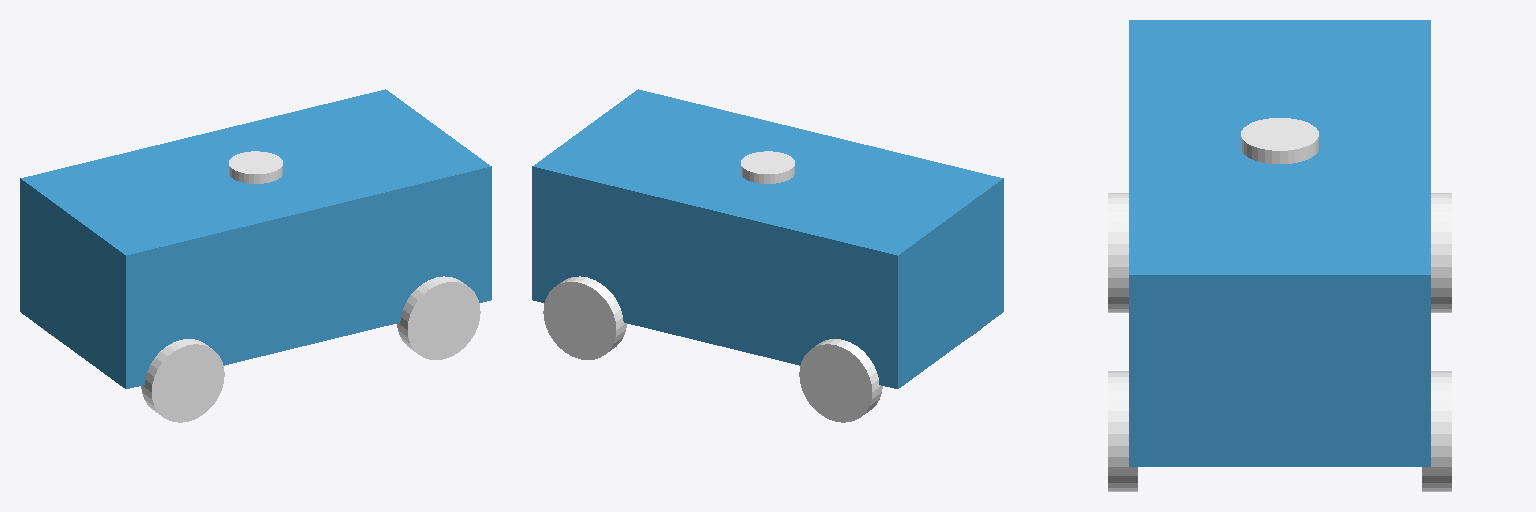
URDF robot description (my_robot):
<?xml version="1.0"?>

<robot name="my_robot" xmlns:xacro="http://www.ros.org/wiki/xacro">
    <material name="grey">
        <color rgba="0.7 0.7 0.7 1"/>
    </material>

    <material name="green">
        <color rgba="0 0.6 0 1"/>
    </material>

    <material name="white">
        <color rgba="1 1 1 1"/>
    </material>

    <link name="base_footprint" />

    <joint name="base_joint" type="fixed">
        <parent link="base_footprint" />
        <child link="base_link" />
        <origin xyz="0 0 0.5" rpy="0 0 0" />
    </joint>

    
    <link name='base_link'>
        <inertial> 
          <mass value="1.14"/> 
          <origin xyz="0 0 0.05" rpy="0 0 0"/> 
          <inertia ixx="0.13" ixy="0" ixz="0" iyy="0.4" iyz="0" izz="0.48"/> 
        </inertial> 

        <visual> 
          <origin xyz="0 0 0.05" rpy="0 0 0"/> 
          <geometry> 
            <box size="2 1 0.7"/> 
          </geometry> 
          <material name="green" />
          <material>
            <ambient>0.5 0.5 1.0 1</ambient>
            <diffuse>0.5 0.5 1.0 1</diffuse>
            <specular>0.0 0.0 1.0 1</specular>
          </material>
        </visual>

        <collision> 
          <origin xyz="0 0 0.05" rpy="0 0 0"/> 
          <geometry> 
                <box size="2 1 0.7"/> 
          </geometry> 
        </collision> 
    </link>

    <link name="right_wheel_rear"> 
      <collision> 
        <origin xyz="0 0 0" rpy="0 1.5708 1.5708" />
        <geometry> 
        <cylinder length="0.1" radius="0.2"/> 
        </geometry> 
      </collision> 

      <visual> 
        <origin xyz="0 0 0" rpy="0 1.5708 1.5708" /> 
        <geometry> 
        <cylinder length="0.1" radius="0.2"/> 
        </geometry> 
        <material name="white"/> 
      </visual> 		

      <inertial> 
        <origin xyz="0 0 0" rpy="0 1.5708 1.5708" /> 
        <mass value="0.2"/> 
        <inertia ixx="0.15" ixy="0" ixz="0" iyy="0.15" iyz="0" izz="0.125"/> 
      </inertial> 
    </link>

    <joint name="base_right_wheel_rear_joint" type="continuous"> 
      <parent link="base_link"/> 
      <child link="right_wheel_rear"/> 
      <origin xyz="-0.7 0.52 -0.31" rpy="0 0 0" />  
      <axis xyz="0 1 0" rpy="0 0 0" /> 
      <limit effort="0" velocity="0"/> 
      <dynamics damping="0.0" friction="0.0"/> 
    </joint>

    <link name="left_wheel_rear">
      <collision>
        <origin xyz="0 0 0" rpy="0 1.5708 1.5708" />
        <geometry>
          <cylinder length="0.1" radius="0.2"/>
        </geometry>
      </collision>

      <visual>
        <origin xyz="0 0 0" rpy="0 1.5708 1.5708" />
        <geometry>
          <cylinder length="0.1" radius="0.2"/>
        </geometry>
        <material name="white"/>
      </visual>

      <inertial>
        <origin xyz="0 0 0" rpy="0 1.5708 1.5708" />
        <mass value="0.2"/>
        <inertia ixx="0.15" ixy="0" ixz="0" iyy="0.15" iyz="0" izz="0.125"/>
      </inertial>

    </link>

    <joint name="base_left_wheel_rear_joint" type="continuous">
      <parent link="base_link"/>
      <child link="left_wheel_rear"/>
      <origin xyz="-0.7 -0.52 -0.31" rpy="0 0 0" />
      <axis xyz="0 1 0" rpy="0 0 0" />
      <limit effort="0" velocity="0"/>
      <dynamics damping="0.0" friction="0.0"/>
    </joint>
  
    <link name="right_wheel_front">
      <collision>
        <origin xyz="0 0 0" rpy="0 1.5708 1.5708" />
        <geometry>
          <cylinder length="0.1" radius="0.2"/>
        </geometry>
      </collision>

      <visual>
        <origin xyz="0 0 0" rpy="0 1.5708 1.5708" />
        <geometry>
          <cylinder length="0.1" radius="0.2"/>
        </geometry>
        <material name="white"/>
      </visual>

      <inertial>
        <origin xyz="0 0 0" rpy="0 1.5708 1.5708" />
        <mass value="0.2"/>
        <inertia ixx="0.15" ixy="0" ixz="0" iyy="0.15" iyz="0" izz="0.125"/>
      </inertial>
    </link>

    <link name="left_wheel_front">
      <collision>
        <origin xyz="0 0 0" rpy="0 1.5708 1.5708" />
        <geometry>
          <cylinder length="0.1" radius="0.2"/>
        </geometry>
      </collision>

      <visual>
        <origin xyz="0 0 0" rpy="0 1.5708 1.5708" />
        <geometry>
          <cylinder length="0.1" radius="0.2"/>
        </geometry>
        <material name="white"/>
      </visual>

      <inertial>
        <origin xyz="0 0 0" rpy="0 1.5708 1.5708" />
        <mass value="0.2"/>
        <inertia ixx="0.15" ixy="0" ixz="0" iyy="0.15" iyz="0" izz="0.125"/>
      </inertial>
    </link>

    <link name="lidar_link">
      <collision>
        <origin xyz="0 0 0" rpy="0 0 0"/>
        <geometry>
          <cylinder radius="0.13" length="0.1"/>
        </geometry>
      </collision>

      <visual>
        <origin xyz="0 0 0" rpy="0 0 0"/>
        <geometry>
          <cylinder radius="0.13" length="0.1"/>
        </geometry>
        <material name="white"/>
      </visual>

      <inertial>
        <origin xyz="0 0 0" rpy="0 0 0"/>
        <mass value="0.1"/>
        <inertia ixx="0.0001" ixy="0" ixz="0" iyy="0.0001" iyz="0" izz="0.0001"/>
      </inertial>

        <sensor name="lidar" type="gpu_ray">
          <pose>0 0 0 0 0 0</pose>
          <update_rate>30</update_rate>
          <ray>
            <scan>
              <horizontal>
                <samples>640</samples>
                <resolution>1</resolution>
                <min_angle>-1.5708</min_angle>
                <max_angle>1.5708</max_angle>
              </horizontal>
              <vertical>
                <samples>1</samples>
                <resolution>1</resolution>
                <min_angle>0</min_angle>
                <max_angle>0</max_angle>
              </vertical>
            </scan>
            <range>
              <min>0.1</min>
              <max>30.0</max>
              <resolution>0.01</resolution>
            </range>
            <noise>
              <type>gaussian</type>
              <mean>0.0</mean>
              <stddev>0.01</stddev>
            </noise>
          </ray>
          <plugin name="ignition::sensors::RaySensor" filename="ignition-sensors-ray-sensor">
            <topic>/scan</topic>
          </plugin>
        </sensor>
    </link>

    <joint name="base_lidar_joint" type="fixed">
      <parent link="base_link"/>
      <child link="lidar_link"/>
      <origin xyz="0 0 0.4" rpy="0 0 0"/>
    </joint>

    <link name="front_left_wheel_steering_link">
      <collision>
        <origin xyz="0 0 0" rpy="0 0 0"/>
        <geometry>
          <cylinder radius="0.04" length="0.2"/>
        </geometry>
      </collision>

      <visual>
        <origin xyz="0 0 0" rpy="0 0 0"/>
        <geometry>
          <cylinder radius="0.04" length="0.2"/>
        </geometry>
        <material name="white"/>
      </visual>

      <inertial>
        <origin xyz="0 0 0" rpy="0 0 0"/>
        <mass value="0.5"/>
        <inertia ixx="0.0153" ixy="0" ixz="0" iyy="0.025" iyz="0" izz="0.0153"/>
      </inertial>
    </link>

    <link name="front_right_wheel_steering_link">
      <collision>
        <origin xyz="0 0 0" rpy="0 0 0"/>
        <geometry>
          <cylinder radius="0.04" length="0.2"/>
        </geometry>
      </collision>

      <visual>
        <origin xyz="0 0 0" rpy="0 0 0"/>
        <geometry>
          <cylinder radius="0.04" length="0.2"/>
        </geometry>
        <material name="white"/>
      </visual>

      <inertial>
        <origin xyz="0 0 0" rpy="0 0 0"/>
        <mass value="0.5"/>
        <inertia ixx="0.0153" ixy="0" ixz="0" iyy="0.025" iyz="0" izz="0.0153"/>
      </inertial>
    </link>

    <joint name="front_left_wheel_steering_joint" type="revolute">
      <parent link="base_link"/>
      <child link="front_left_wheel_steering_link"/>
      <origin xyz="0.7 -0.52 -0.31" rpy="0 0 0"/>
      <axis xyz="0 0 1" rpy="0 0 0"/>
      <limit lower="-0.6" upper="0.6" velocity="1.0" effort="25"/>
    </joint>

    <joint name="front_right_wheel_steering_joint" type="revolute">
      <parent link="base_link"/>
      <child link="front_right_wheel_steering_link"/>
      <origin xyz="0.7 0.52 -0.31" rpy="0 0 0"/>
      <axis xyz="0 0 1" rpy="0 0 0"/>
      <limit lower="-0.6" upper="0.6" velocity="1.0" effort="25"/>
    </joint>

    <joint name="front_left_wheel_joint" type="continuous">
      <parent link="front_left_wheel_steering_link"/>
      <child link="left_wheel_front"/>
      <origin xyz="0 0 0" rpy="0 0 0"/>
      <axis xyz="0 1 0" rpy="0 0 0"/>
      <limit effort="0" velocity="0"/>
      <dynamics damping="0.0" friction="0.0"/>
    </joint>

    <joint name="front_right_wheel_joint" type="continuous">
      <parent link="front_right_wheel_steering_link"/>
      <child link="right_wheel_front"/>
      <origin xyz="0 0 0" rpy="0 0 0"/>
      <axis xyz="0 1 0" rpy="0 0 0"/>
      <limit effort="0" velocity="0"/>
      <dynamics damping="0.0" friction="0.0"/>
    </joint>

    <plugin
      filename="ignition-gazebo-ackermann-steering-system"
      name="gz::sim::systems::AckermannSteering">
      <left_joint>front_left_wheel_joint</left_joint>
      <left_joint>rear_left_wheel_joint</left_joint>
      <right_joint>front_right_wheel_joint</right_joint>
      <right_joint>rear_right_wheel_joint</right_joint>
      <left_steering_joint>front_left_wheel_steering_joint</left_steering_joint>
      <right_steering_joint>front_right_wheel_steering_joint</right_steering_joint>
      <kingpin_width>1.0</kingpin_width>
      <steering_limit>0.5</steering_limit>
      <wheel_base>1.0</wheel_base>
      <wheel_separation>1.25</wheel_separation>
      <wheel_radius>0.3</wheel_radius>
      <min_velocity>-1</min_velocity>
      <max_velocity>1</max_velocity>
      <min_acceleration>-3</min_acceleration>
      <max_acceleration>3</max_acceleration>
      <odom_publish_frequency>1</odom_publish_frequency>
      <topic>/model/my_robot/cmd_vel</topic>
    </plugin>

</robot>

--- Facts derived from the render (not from the file) ---
Views: 3 orthographic renders of the robot side by side, from view 1: azimuth 30°, elevation 25°; view 2: azimuth 150°, elevation 25°; view 3: azimuth 270°, elevation 25°.
Model my_robot with 9 links and 8 joints (2 revolute, 4 continuous, 2 fixed), rooted at base_footprint, posed all joints at 0.
Links seen in each view (by area): view 1: base_link, left_wheel_rear, left_wheel_front, lidar_link; view 2: base_link, right_wheel_rear, right_wheel_front, lidar_link; view 3: base_link, lidar_link, right_wheel_front, left_wheel_front, right_wheel_rear, left_wheel_rear.
Link boxes in pixels (x1=…): base_link: x1=20, y1=89, x2=491, y2=388; left_wheel_rear: x1=141, y1=339, x2=224, y2=422; left_wheel_front: x1=397, y1=276, x2=480, y2=359; lidar_link: x1=229, y1=151, x2=282, y2=183; base_link: x1=532, y1=89, x2=1003, y2=388; right_wheel_rear: x1=799, y1=339, x2=882, y2=422; right_wheel_front: x1=543, y1=276, x2=626, y2=359; lidar_link: x1=741, y1=151, x2=794, y2=183; base_link: x1=1129, y1=20, x2=1430, y2=466; lidar_link: x1=1241, y1=118, x2=1318, y2=163; right_wheel_front: x1=1422, y1=371, x2=1451, y2=491; left_wheel_front: x1=1108, y1=371, x2=1137, y2=491; right_wheel_rear: x1=1431, y1=193, x2=1451, y2=312; left_wheel_rear: x1=1108, y1=193, x2=1128, y2=312.
Bounding box of the posed robot: 2 × 1.14 × 0.96 m (x, y, z).
Geometry: primitives only (box / cylinder / sphere), no mesh files.